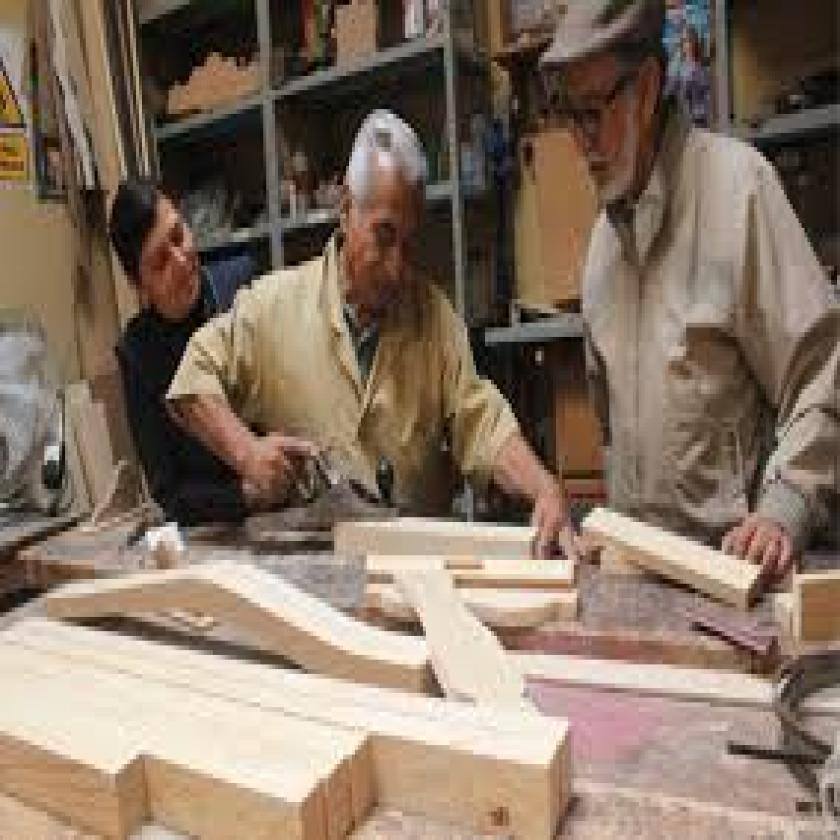Sin_casco: (330, 94, 435, 335), (97, 156, 208, 317)
